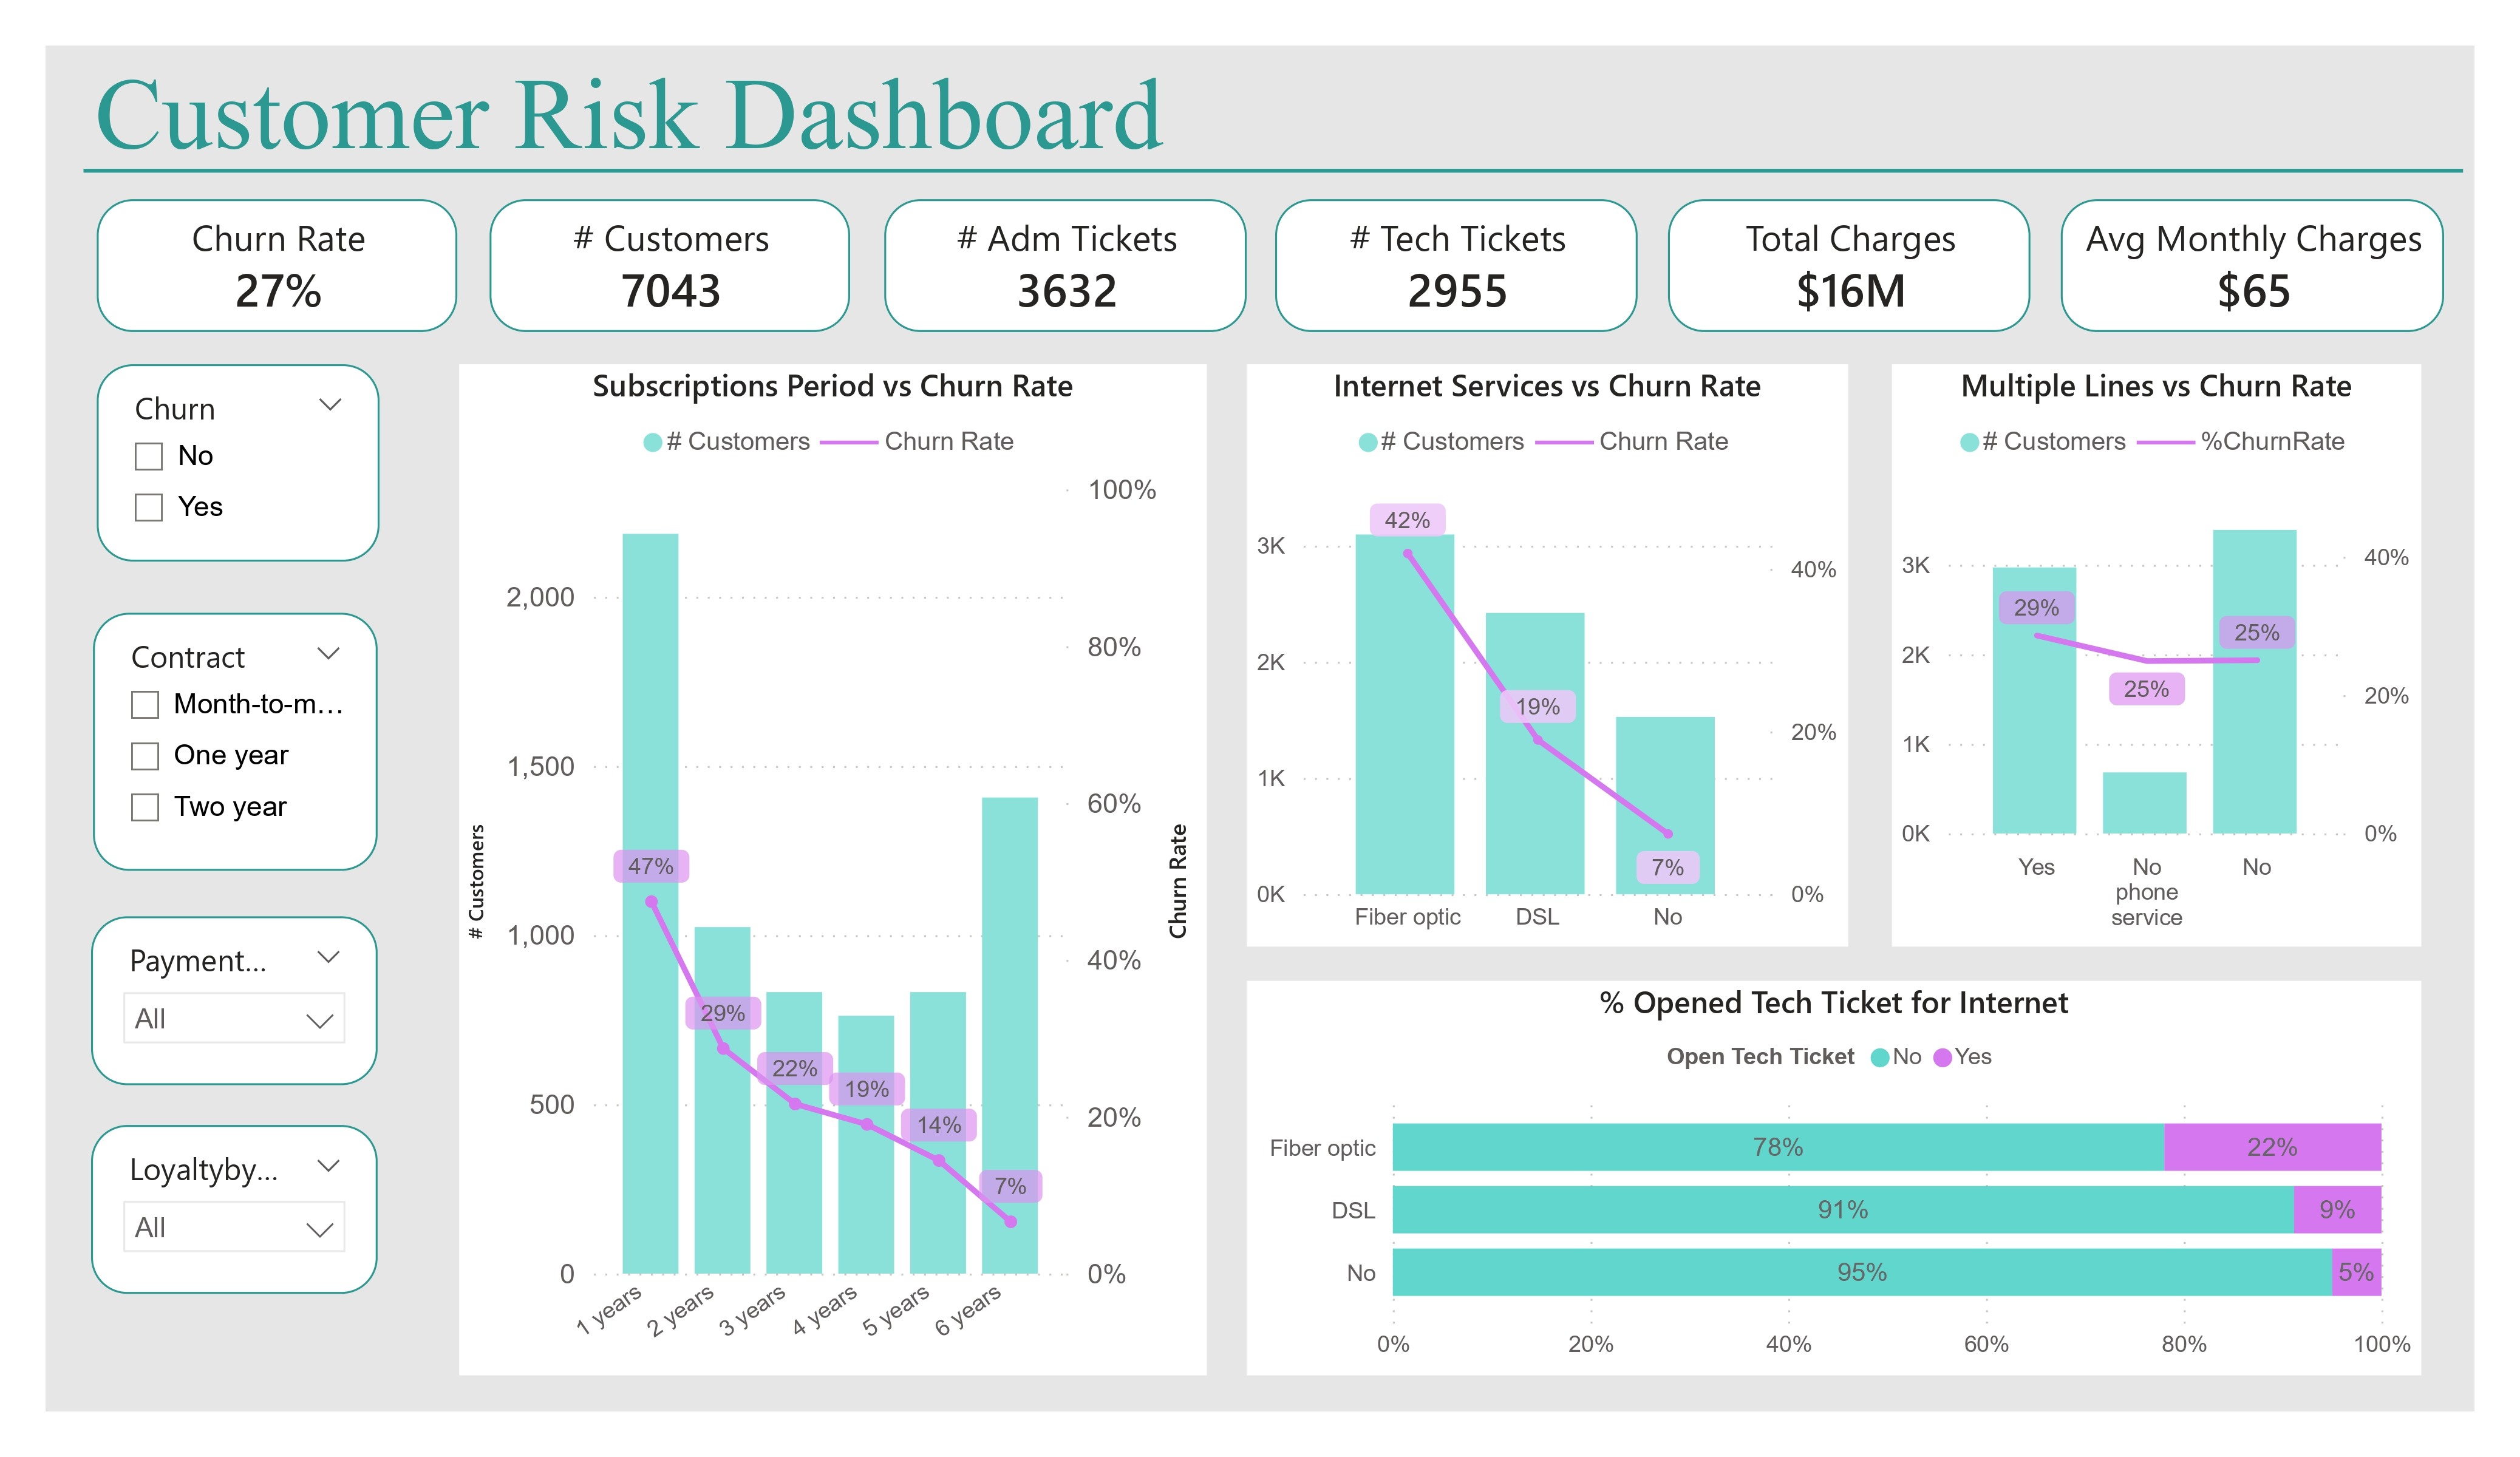

This screenshot's page, from the dashboard's own definition file:
{"tool":"powerbi","page":{"name":"Page 1","canvas":[1280,720],"ordinal":1},"visuals":[{"type":"card","title":"Churn Rate","fields":{"Values":["01 Churn-Dataset.%ChurnRate"]},"box":[27,80.6,190,69.9],"z":0},{"type":"lineClusteredColumnComboChart","title":"Subscriptions Period vs Churn Rate","fields":{"Y2":["01 Churn-Dataset.%ChurnRate"],"Y":["CountNonNull(01 Churn-Dataset.customerID)"],"Category":["01 Churn-Dataset.LoyaltybyYears"]},"box":[217.7,168.3,394.2,532.5],"z":1000},{"type":"lineStackedColumnComboChart","title":"Internet Services vs Churn Rate","fields":{"Category":["01 Churn-Dataset.InternetService"],"Y":["CountNonNull(01 Churn-Dataset.customerID)"],"Y2":["01 Churn-Dataset.%ChurnRate"]},"box":[632.6,168.3,317.9,306.8],"z":2000},{"type":"hundredPercentStackedBarChart","title":"% Opened Tech Ticket for Internet","fields":{"Category":["01 Churn-Dataset.InternetService"],"Y":["CountNonNull(01 Churn-Dataset.customerID)"],"Series":["01 Churn-Dataset.OpenTechTicket"]},"box":[632.6,492.6,619.9,208.2],"z":3000},{"type":"slicer","fields":{"Values":["01 Churn-Dataset.Churn"]},"box":[27,168.3,149.4,103.3],"z":4000},{"type":"slicer","fields":{"Values":["01 Churn-Dataset.Contract"]},"box":[25.4,298.7,149.4,136.7],"z":5000},{"type":"slicer","fields":{"Values":["01 Churn-Dataset.PaymentMethod"]},"box":[23.8,459.2,151,89],"z":6000},{"type":"lineClusteredColumnComboChart","title":"Multiple Lines vs Churn Rate","fields":{"Category":["01 Churn-Dataset.MultipleLines"],"Y":["CountNonNull(01 Churn-Dataset.customerID)"],"Y2":["01 Churn-Dataset.%ChurnRate"]},"box":[972.7,168.3,279.7,306.8],"z":7000},{"type":"card","title":"# Customers","fields":{"Values":["CountNonNull(01 Churn-Dataset.customerID)"]},"box":[233.6,80.6,190.7,69.9],"z":8000},{"type":"card","title":"# Adm Tickets","fields":{"Values":["Sum(01 Churn-Dataset.numAdminTickets)"]},"box":[441.9,80.6,190.7,69.9],"z":9000},{"type":"card","title":"# Tech Tickets","fields":{"Values":["01 Churn-Dataset.numTech"]},"box":[648.5,80.6,190.7,69.9],"z":10000},{"type":"card","title":"Total Charges","fields":{"Values":["Sum(01 Churn-Dataset.TotalCharges)"]},"box":[855.1,80.6,190.7,69.9],"z":11000},{"type":"card","title":"Avg Monthly Charges","fields":{"Values":["Avg(01 Churn-Dataset.MonthlyCharges)"]},"box":[1061.7,80.6,201.9,69.9],"z":12000},{"type":"slicer","fields":{"Values":["01 Churn-Dataset.LoyaltybyYears"]},"box":[23.8,568.9,151,89],"z":13000},{"type":"textbox","box":[20.7,0,658,71.5],"z":14000},{"type":"shape","box":[20,61.4,1254.3,10],"z":15000}]}

Visuals, with their boxes in screenshot pixels (x1, y1, x2, y2):
"Churn Rate" card: [left=97, top=199, right=457, bottom=331]
"Subscriptions Period vs Churn Rate" lineClusteredColumnComboChart: [left=458, top=365, right=1207, bottom=1375]
"Internet Services vs Churn Rate" lineStackedColumnComboChart: [left=1246, top=365, right=1849, bottom=947]
"% Opened Tech Ticket for Internet" hundredPercentStackedBarChart: [left=1246, top=980, right=2422, bottom=1375]
slicer - 01 Churn-Dataset.Churn: [left=97, top=365, right=380, bottom=561]
slicer - 01 Churn-Dataset.Contract: [left=94, top=612, right=377, bottom=872]
slicer - 01 Churn-Dataset.PaymentMethod: [left=90, top=917, right=377, bottom=1085]
"Multiple Lines vs Churn Rate" lineClusteredColumnComboChart: [left=1892, top=365, right=2422, bottom=947]
"# Customers" card: [left=489, top=199, right=851, bottom=331]
"# Adm Tickets" card: [left=884, top=199, right=1246, bottom=331]
"# Tech Tickets" card: [left=1276, top=199, right=1638, bottom=331]
"Total Charges" card: [left=1668, top=199, right=2030, bottom=331]
"Avg Monthly Charges" card: [left=2060, top=199, right=2443, bottom=331]
slicer - 01 Churn-Dataset.LoyaltybyYears: [left=90, top=1125, right=377, bottom=1294]
textbox: [left=85, top=46, right=1333, bottom=181]
shape: [left=84, top=162, right=2464, bottom=181]
